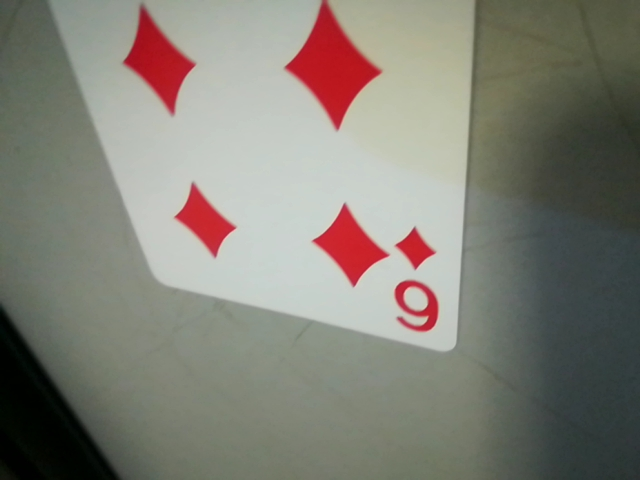fk 6: (380, 222, 455, 342)
